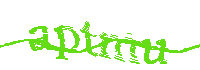a: (27, 24, 52, 52)
m: (100, 31, 139, 66)
p: (56, 22, 79, 62)
t: (81, 20, 99, 57)
u: (142, 36, 168, 69)
